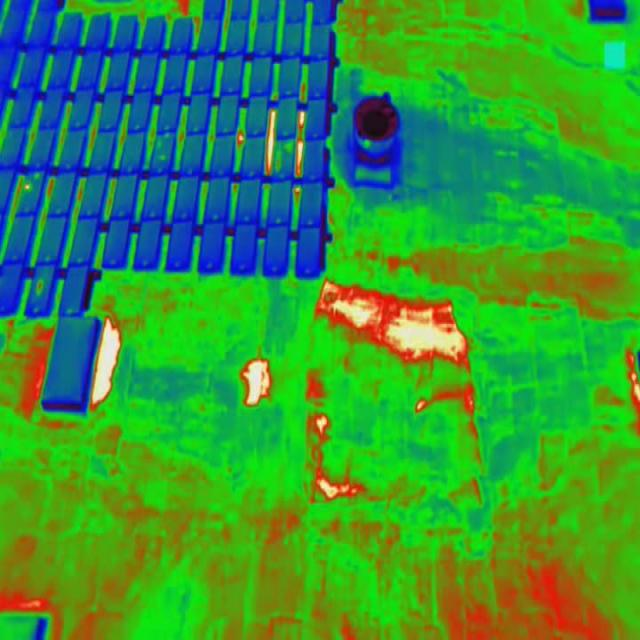Orange-Spots: (276, 152, 282, 169), (24, 182, 32, 191), (37, 280, 42, 294), (286, 143, 292, 152), (34, 174, 40, 178)
